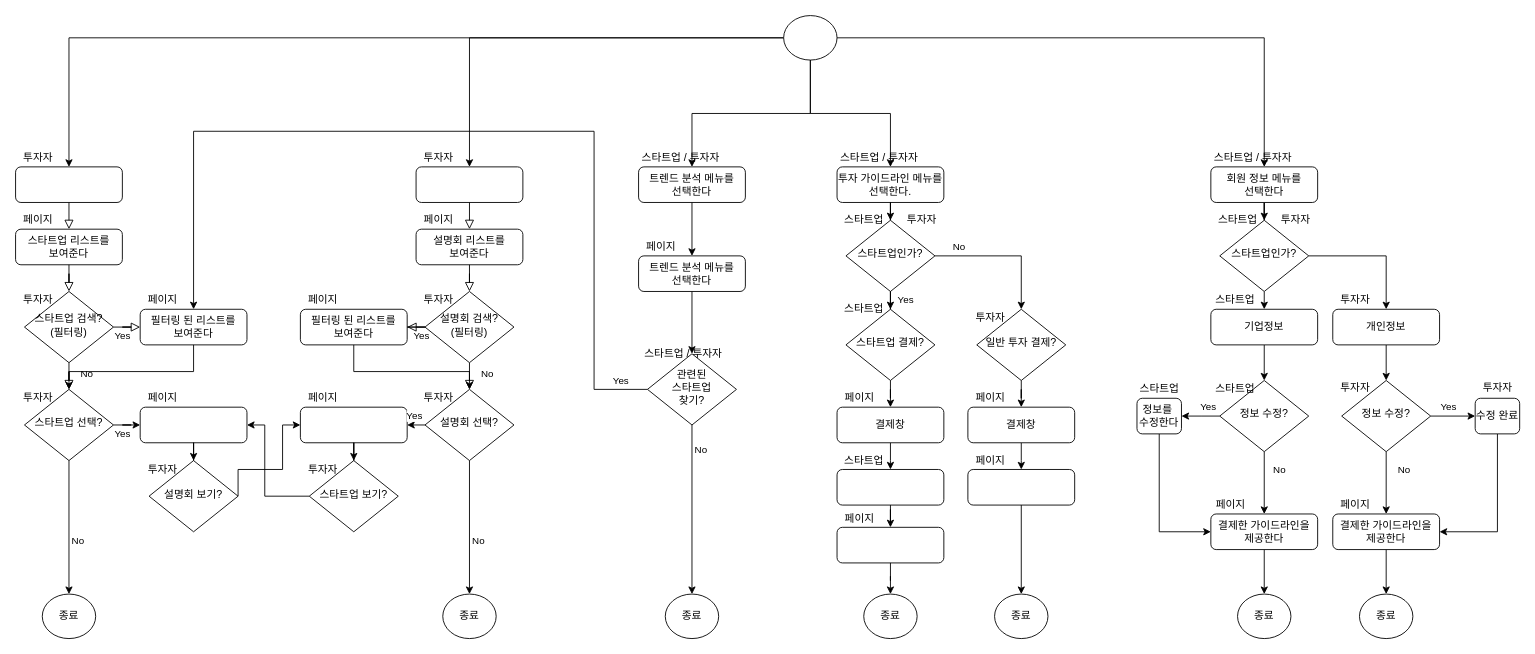
Some shapes in this 1535 by 654 pixel diagram are drawn without their labels. The shapes that lost their labels are listed below. From the top down, each one's centre as x and y in pixels, then its label:
the point at 810,37: 시작
the point at 68,184: 스타트업 찾기 메뉴를 선택한다
the point at 469,184: 설명회 찾기 메뉴를 선택한다
the point at 193,424: 스타트업 정보를 보여준다
the point at 353,424: 설명회를 보여준다
the point at 890,487: 필요한 정보를 기입한다
the point at 1021,487: 투자 가이드라인을 제공한다
the point at 890,544: 스타트업 가이드라인을 제공한다
